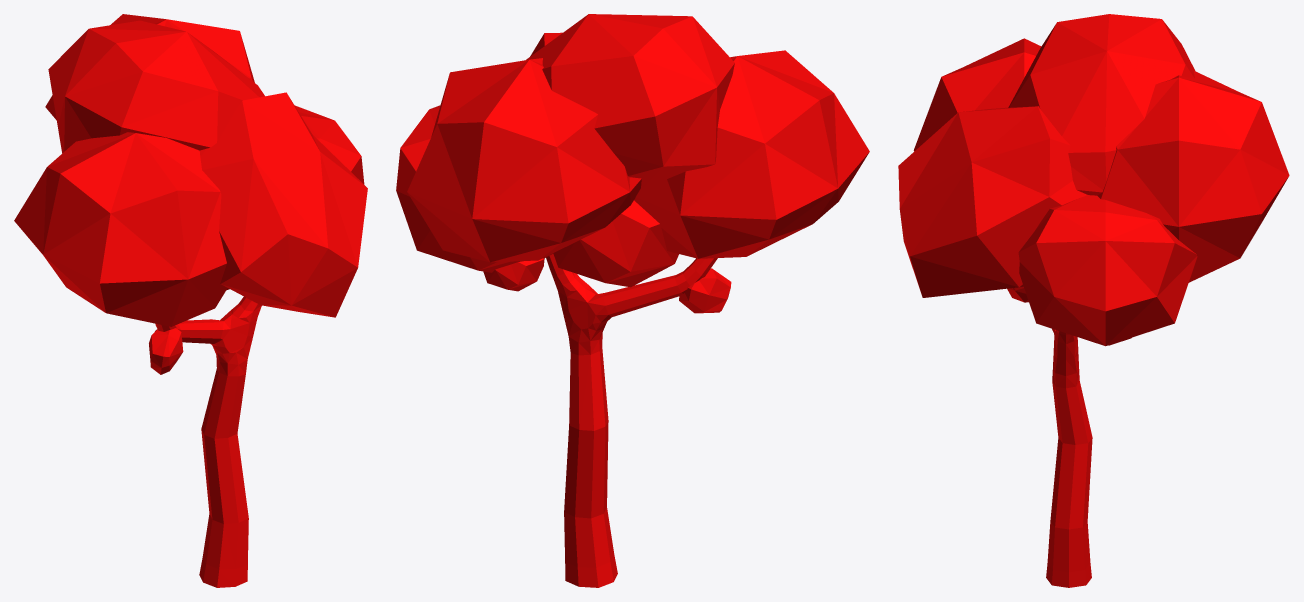
Rendered from redtree.dae.
The picture shows the model from 3 angles, left to right: view 1: azimuth 30°, elevation 25°; view 2: azimuth 150°, elevation 25°; view 3: azimuth 270°, elevation 25°; orthographic projection. The views are drawn at different scales.
Visible parts, largest first — view 1: Cube_001, Cube_005, Cube_008, Vert, Cube_004, Cube, Cube_003; view 2: Cube_004, Cube_001, Cube_008, Vert, Cube_007, Cube, Cube_003, Cube_006; view 3: Cube_005, Cube_004, Cube, Cube_008, Vert, Cube_001.
Boxes of the visible parts, box(x1,y1,x2,y2) form: Cube_001: box(14, 132, 227, 326); Cube_005: box(199, 92, 367, 317); Cube_008: box(48, 20, 264, 153); Vert: box(155, 296, 261, 587); Cube_004: box(45, 14, 254, 119); Cube: box(294, 105, 364, 184); Cube_003: box(149, 328, 183, 374); Cube_004: box(407, 58, 641, 262); Cube_001: box(634, 50, 869, 258); Cube_008: box(526, 14, 734, 187); Vert: box(546, 254, 717, 587); Cube_007: box(553, 200, 678, 287); Cube: box(396, 105, 552, 272); Cube_003: box(679, 268, 731, 313); Cube_006: box(483, 258, 544, 291); Cube_005: box(898, 106, 1087, 297); Cube_004: box(1097, 71, 1289, 282); Cube: box(1018, 195, 1197, 346); Cube_008: box(1008, 14, 1195, 195); Vert: box(1046, 329, 1092, 587); Cube_001: box(913, 38, 1041, 151).
Bounding box in the file's own units: 5.81 × 5.65 × 8.34.
